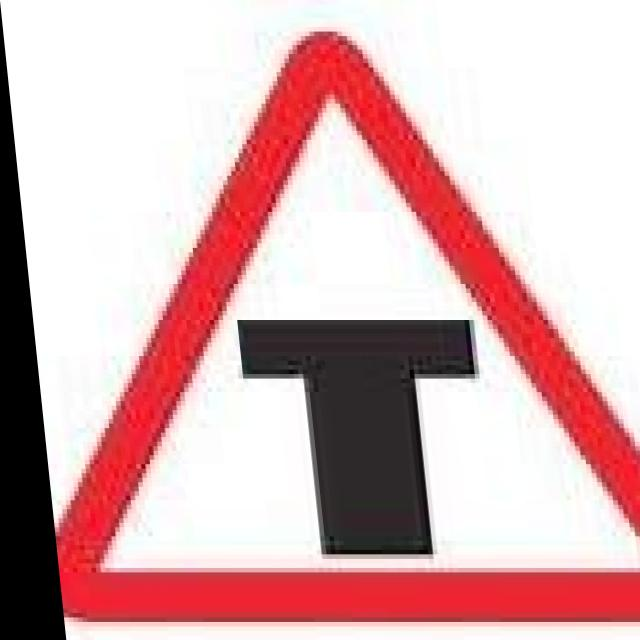T_INTERSECTION: (1, 14, 640, 626)
